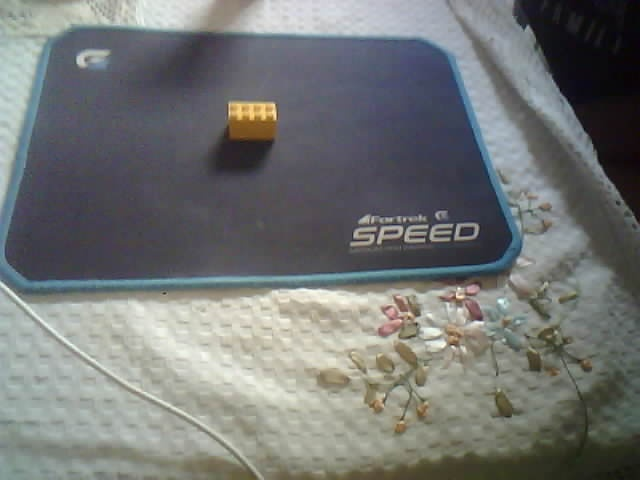lego: (226, 100, 278, 142)
